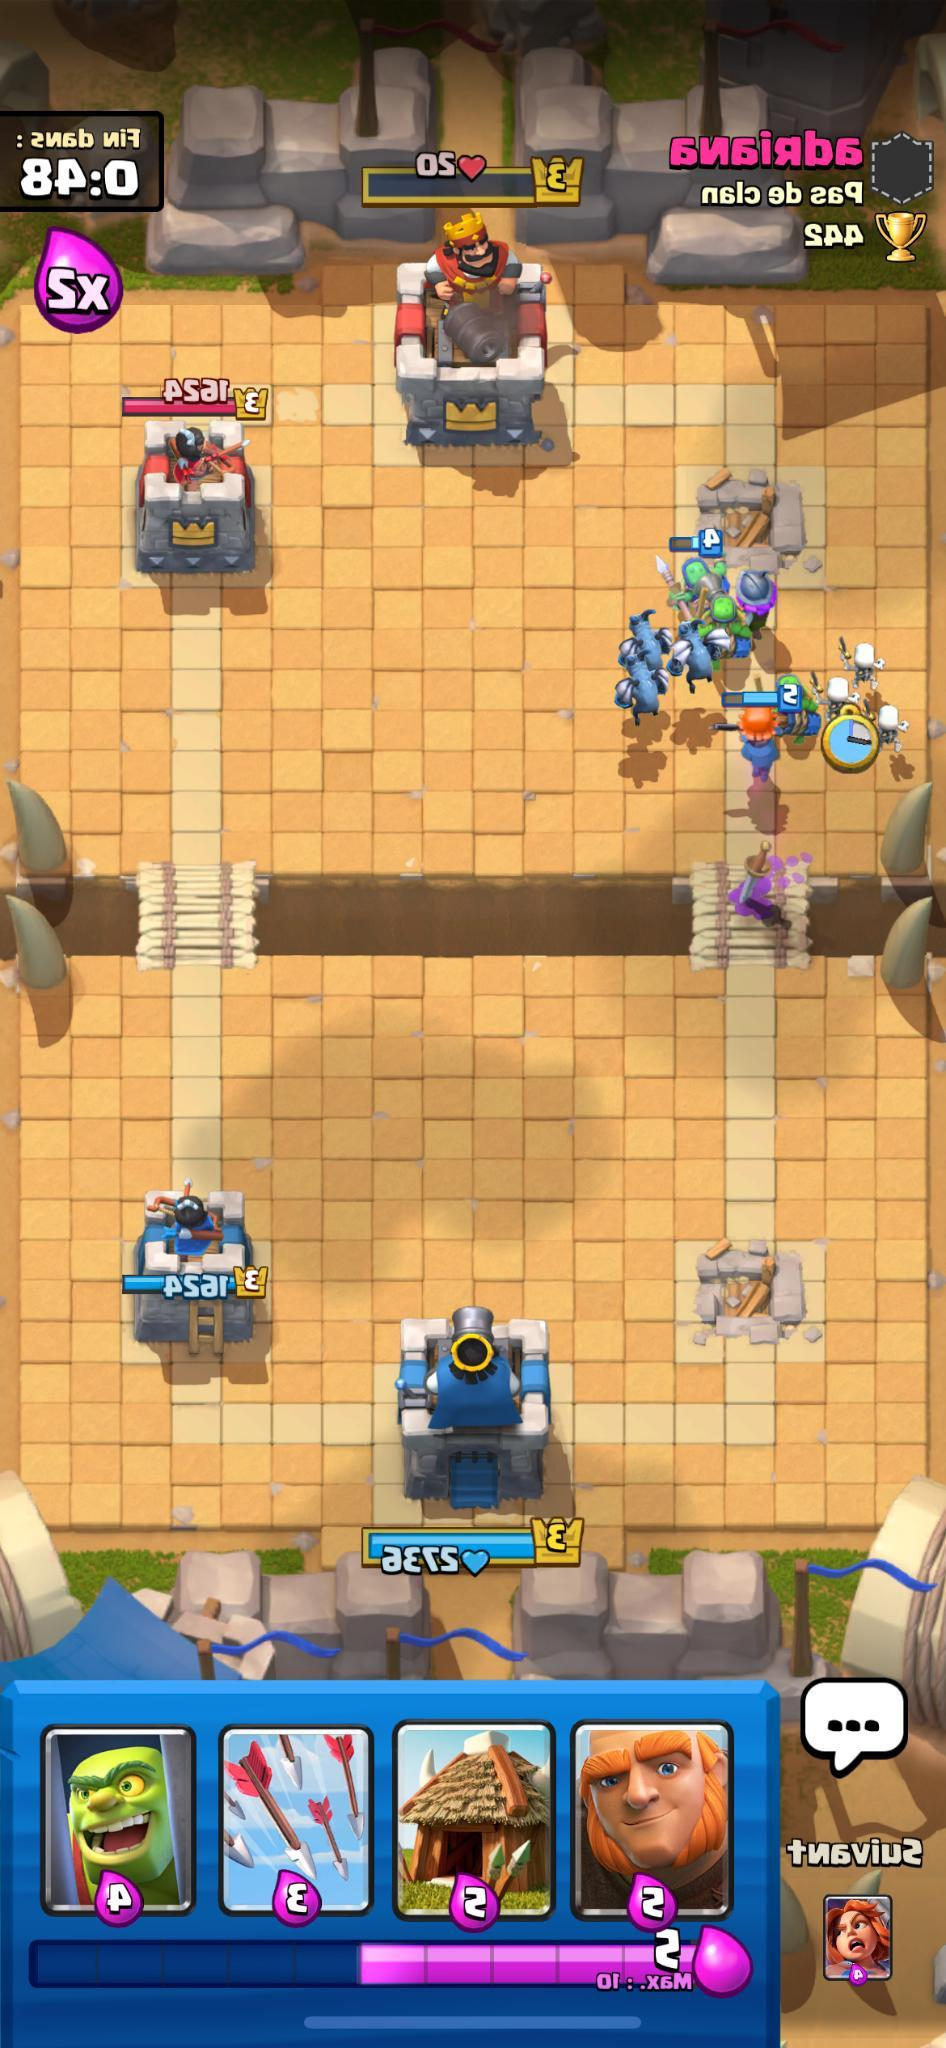player_minions: (607, 647, 671, 724), (665, 615, 726, 687), (614, 602, 675, 674)
player_musketeer: (728, 564, 788, 633)
player_skeletons: (839, 639, 888, 695), (868, 702, 913, 762), (817, 678, 857, 727)
player_spear_goblins: (648, 521, 730, 625), (697, 594, 756, 664), (773, 671, 825, 740)
player_valkyrie: (710, 681, 805, 781)
